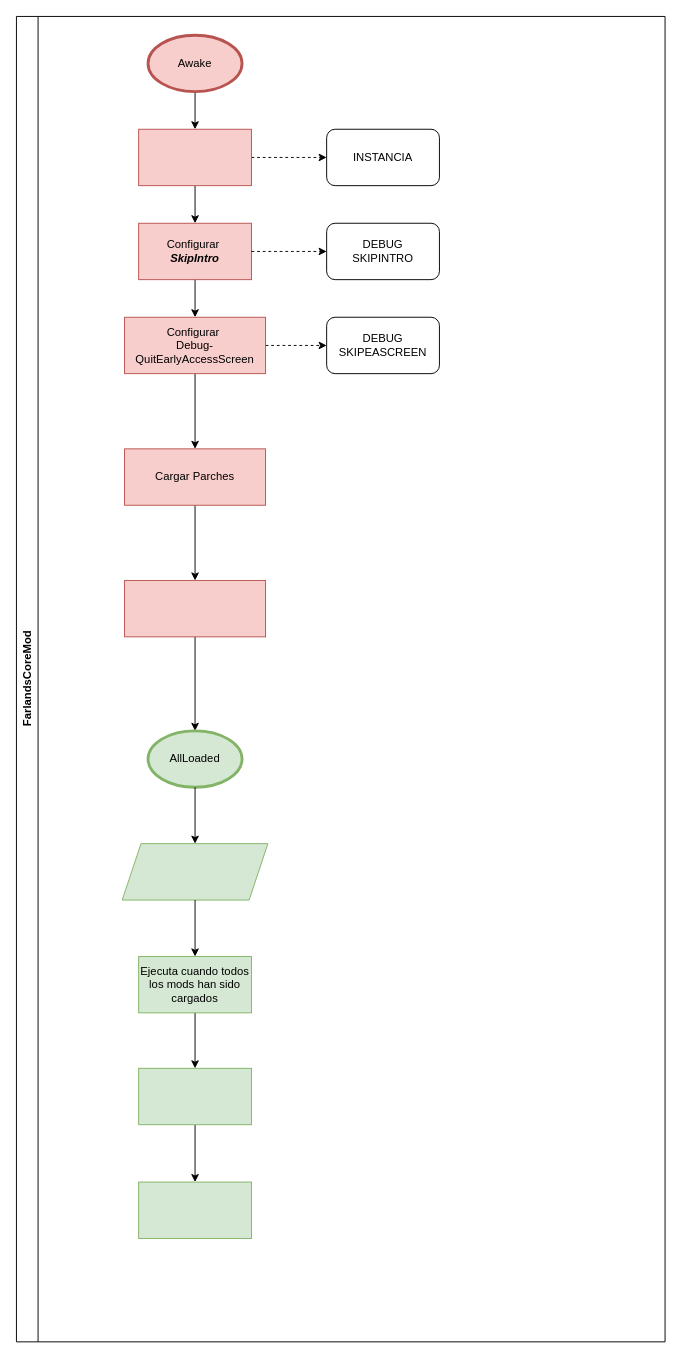
The diagram is 682 pixels wide and 1358 high, and some of its shapes have lost their labels. The centre of each missing label's shape, as x and y in pixels:
Asignar la instancia: point (194, 157)
Espera al primer frame: point (194, 871)
Inicia los Managers: point (194, 1096)
Pone en verdadero la variable de control isLoaded: point (194, 1209)
Registrar funciones que se ejecuten al cargar una escena: point (195, 608)
